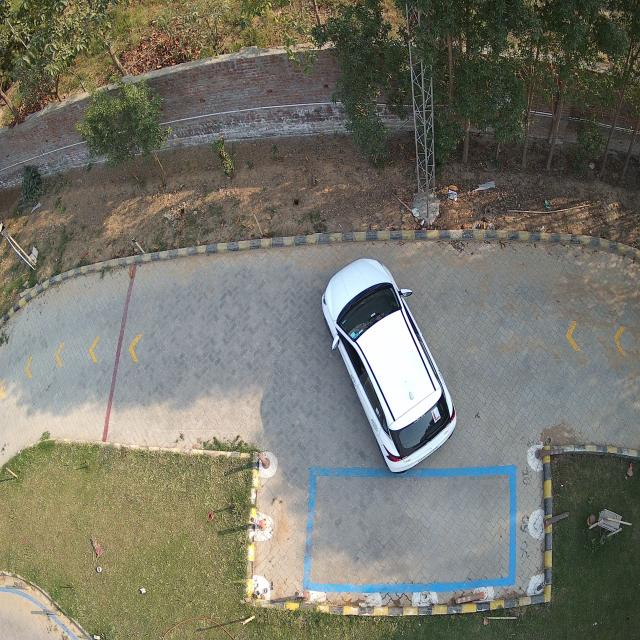car: (321, 257, 456, 475)
